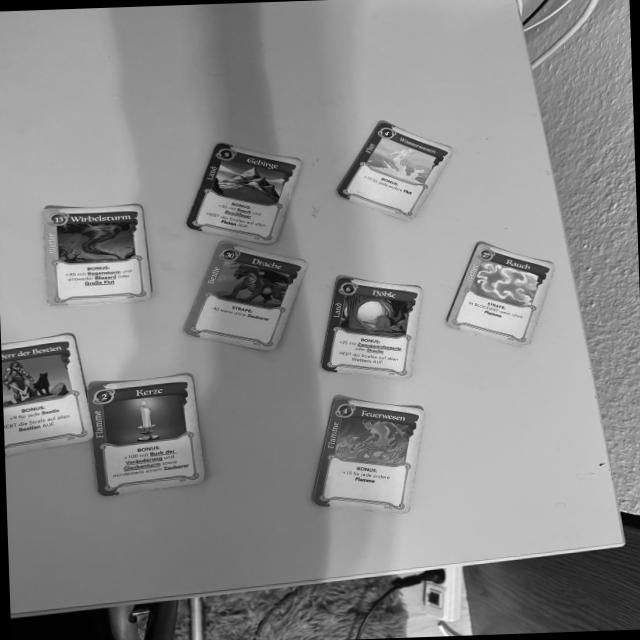Beast Master: (1, 334, 90, 455)
Candle: (87, 371, 206, 498)
Dragon: (180, 238, 309, 352)
Fire Elemental: (306, 395, 428, 519)
Mountain: (183, 139, 307, 244)
Smoke: (443, 238, 556, 346)
Underground Caverns: (319, 271, 423, 382)
Water Elemental: (332, 118, 455, 221)
Whirlwind: (42, 203, 153, 308)
